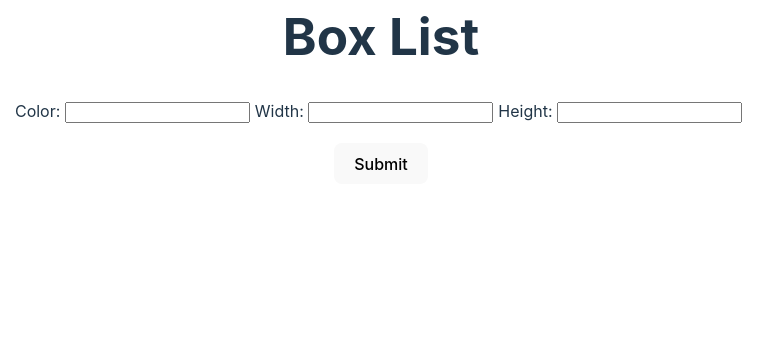
Scenario: should add a box to the page
Type "White" into the field labelled "Color:" at {"x": 157, "y": 112}, box [65, 102, 250, 123]
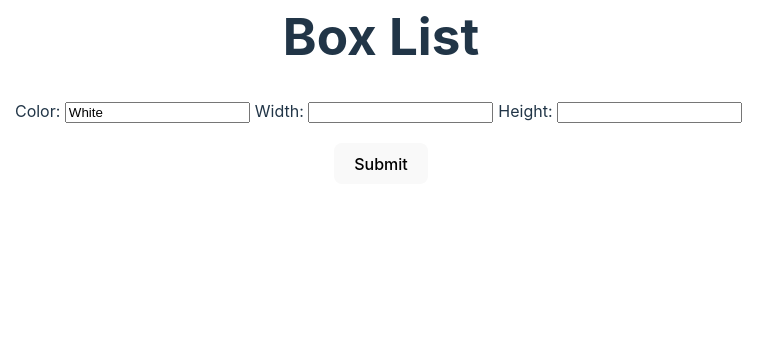
Type "100" into the number field labelled "Width:" at {"x": 401, "y": 112}, box [308, 102, 493, 123]
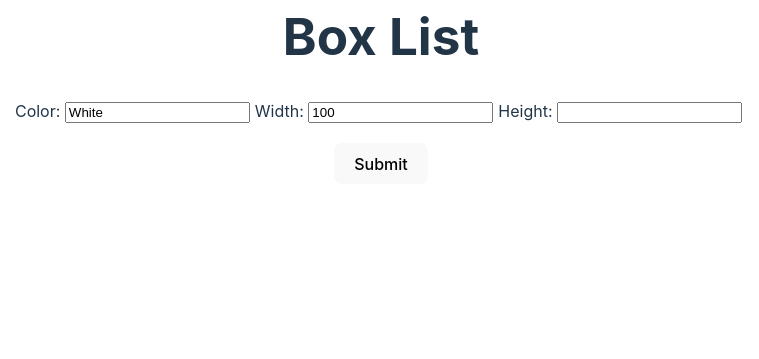
Type "100" into the number field labelled "Height:" at {"x": 650, "y": 112}, box [557, 102, 742, 123]
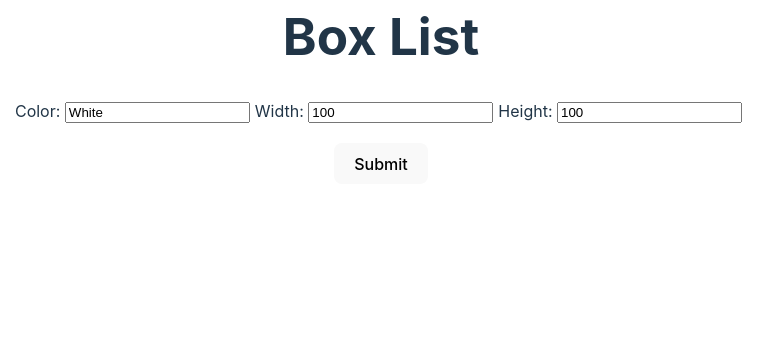
Click the button "Submit" at {"x": 381, "y": 164}, box [334, 143, 428, 184]
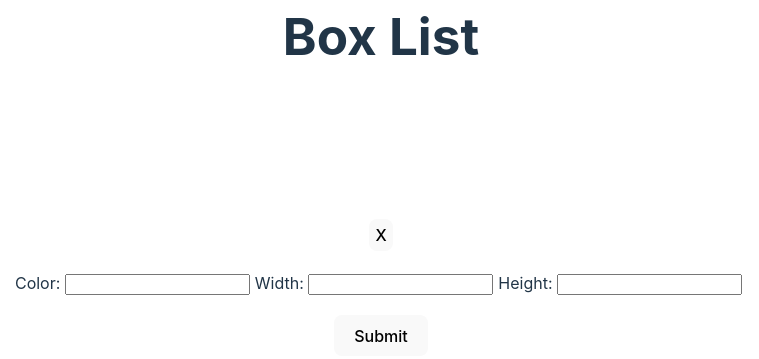
Check: the button "X" is shown, box [369, 219, 393, 251]
